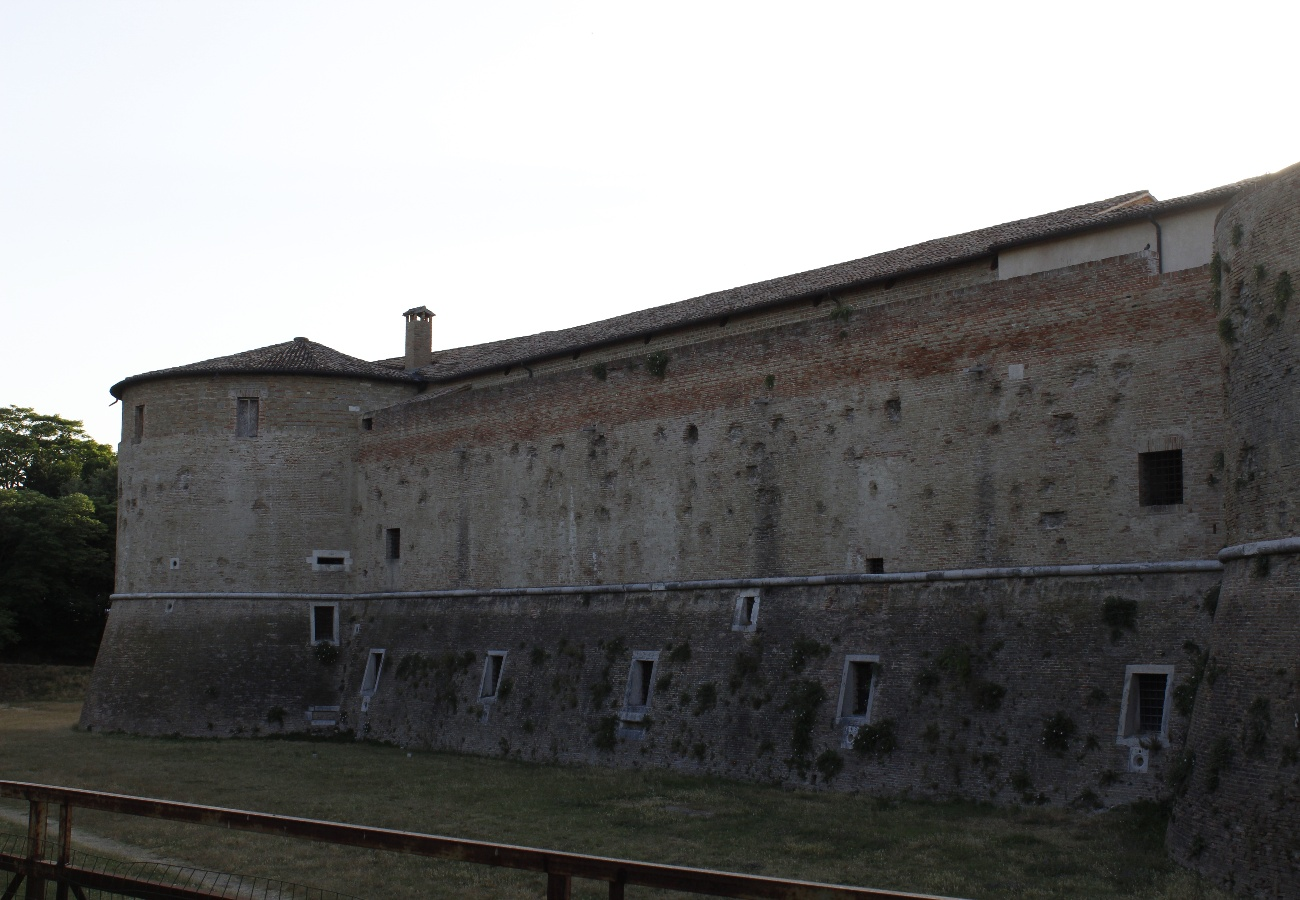Rocca Costanza: (77, 161, 1294, 817)
